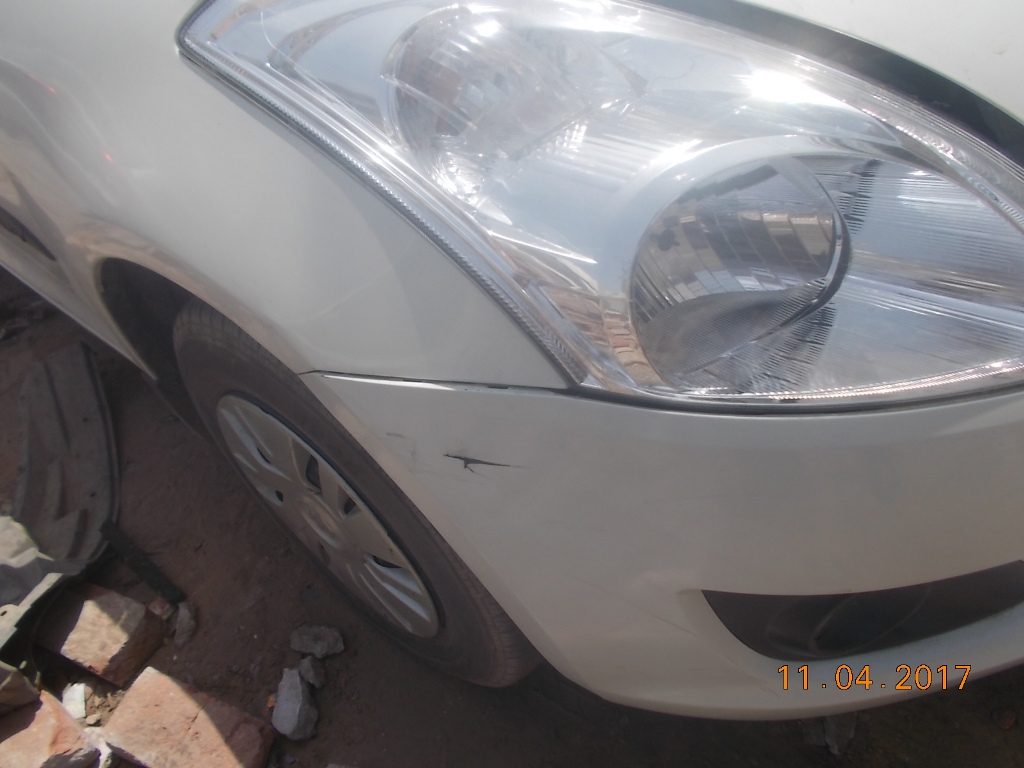Scratch_or_spot: (453, 457, 516, 486)
